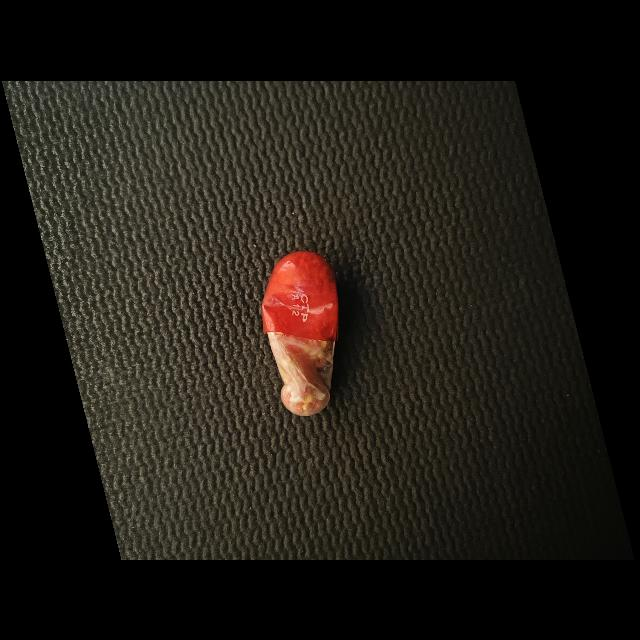Defective Capsule: (262, 251, 339, 416)
